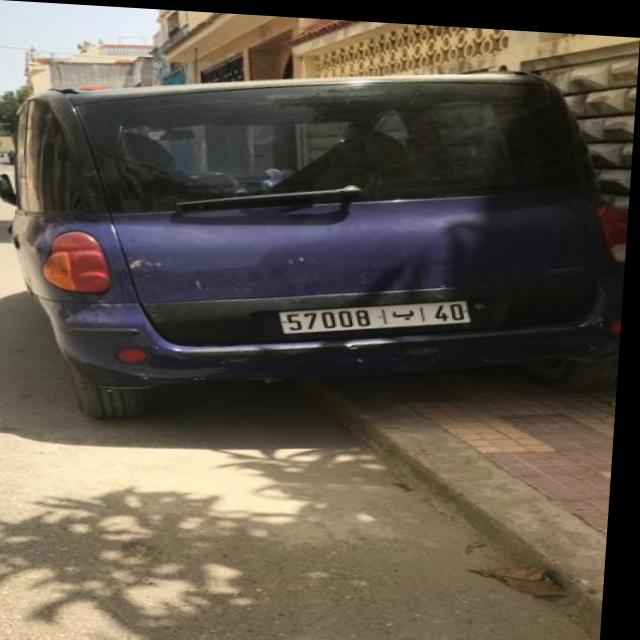License-Plate: (286, 296, 470, 330)
